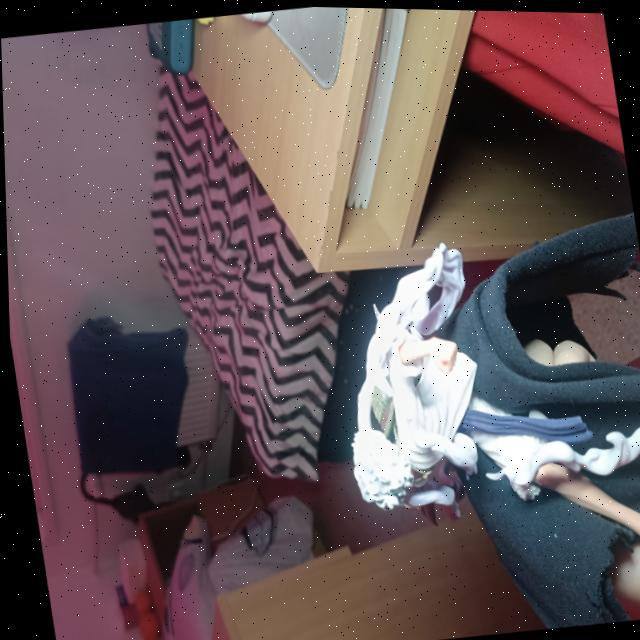luffy: (281, 191, 640, 640)
